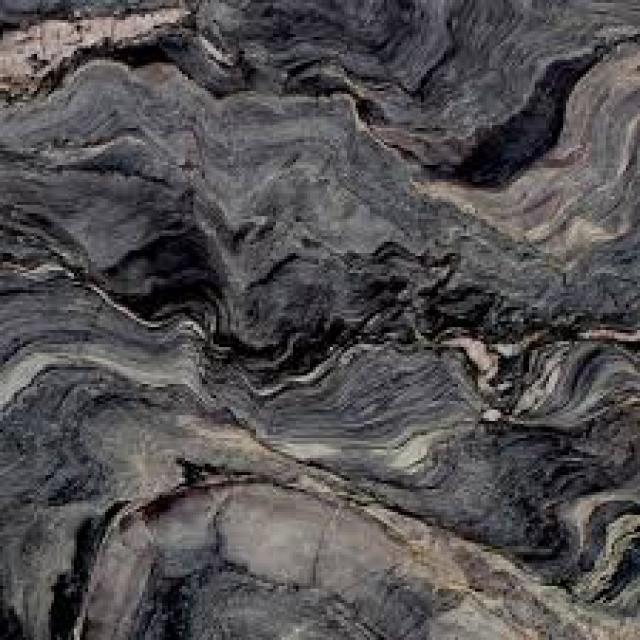Metamorphic: (6, 6, 637, 637)
